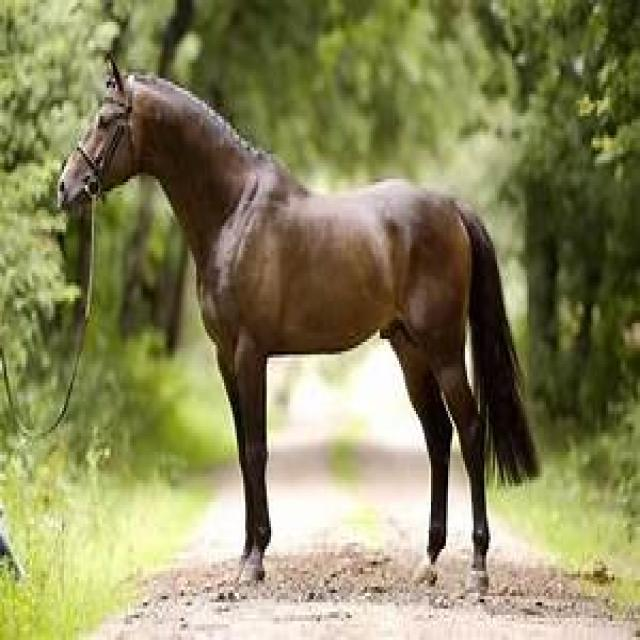horse: (55, 63, 542, 599)
